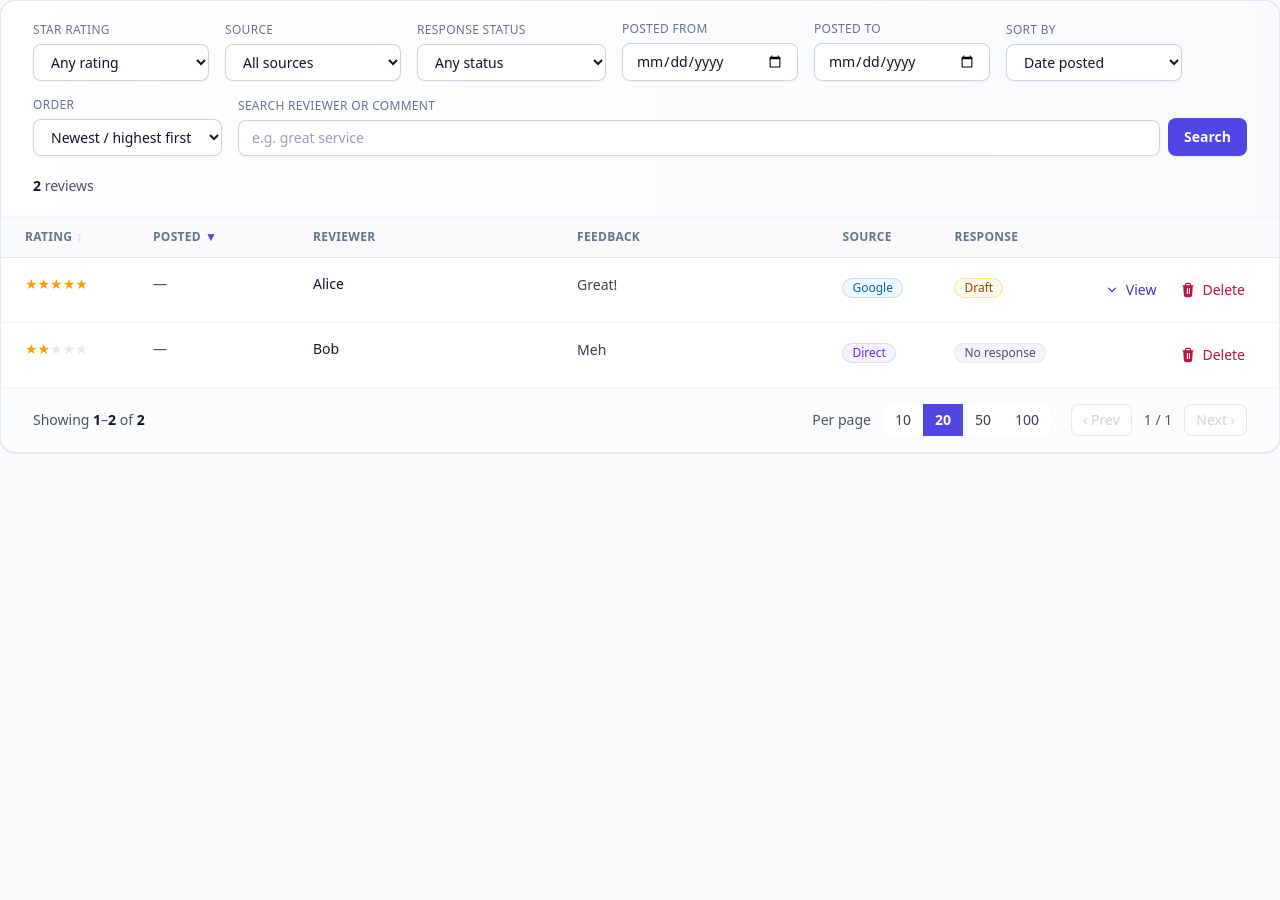
Test: Review Management — ReviewPanel › AI response workflow — expand, accept, regenerate › toggles the expansion closed on a second click
Click the button "View" at x=1130, y=290, box [1094, 274, 1166, 306]
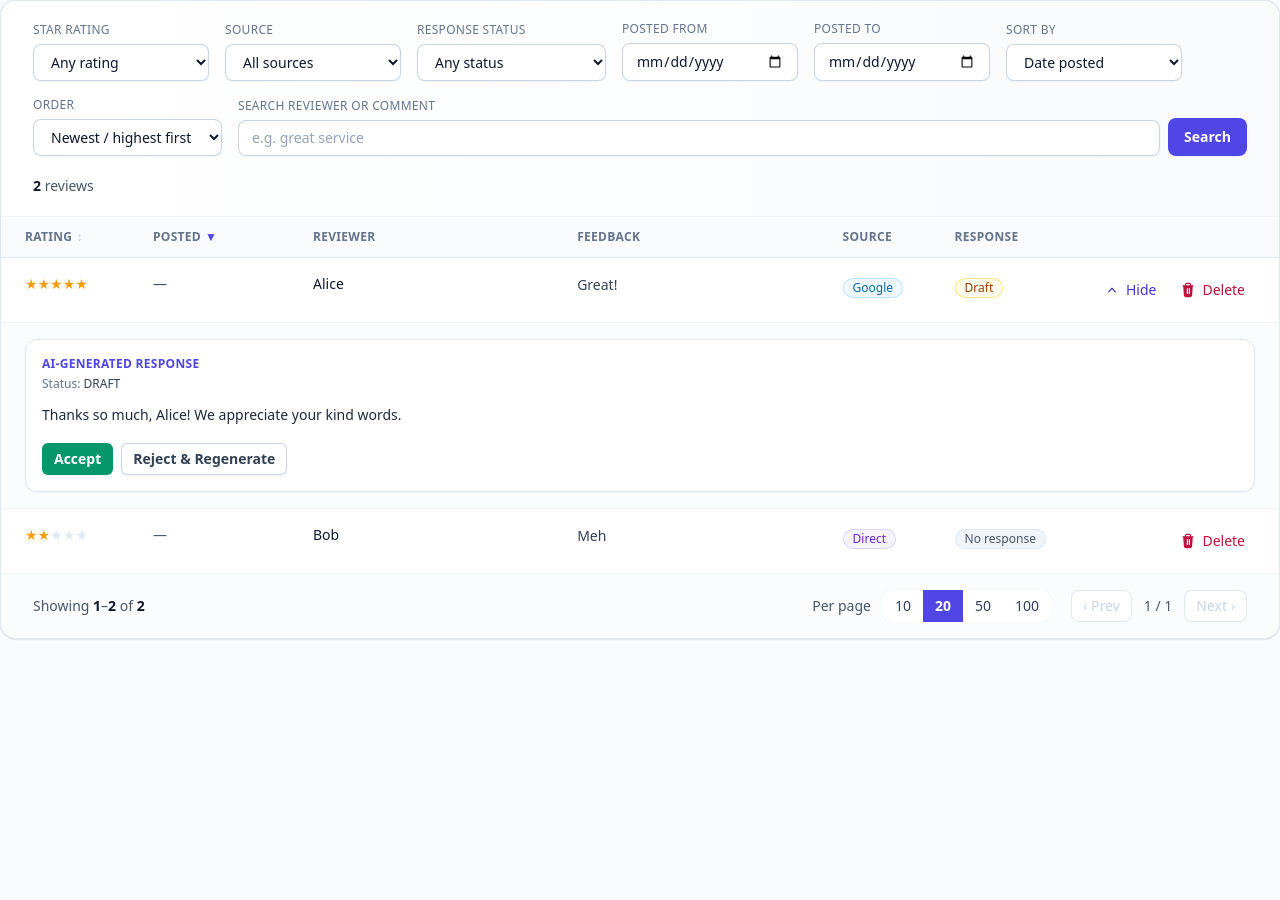
Click the button with aria-label "hide ai response for review from alice" at x=1130, y=290, box [1094, 274, 1166, 306]
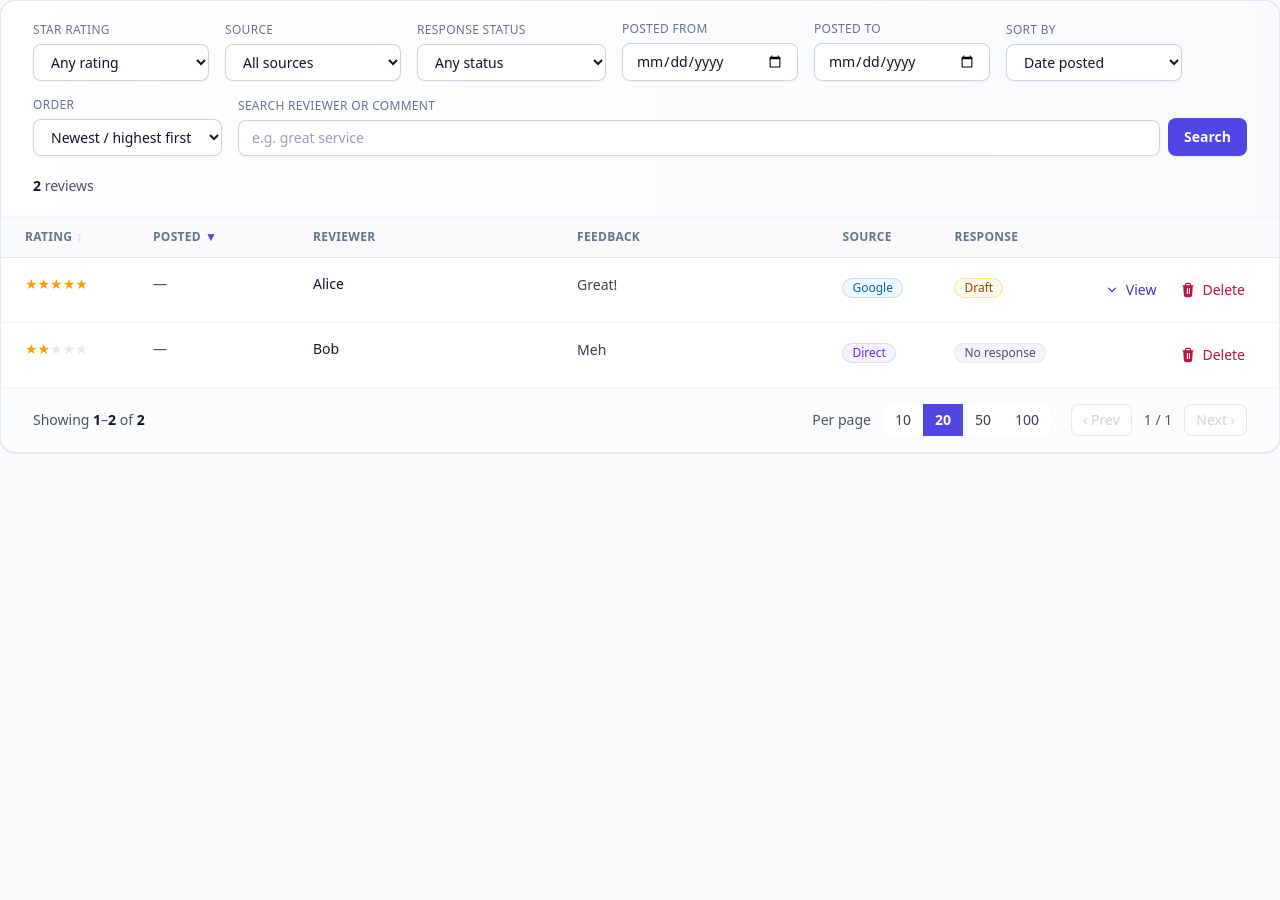
Expected: the element with test id "review-response-r1" is gone
